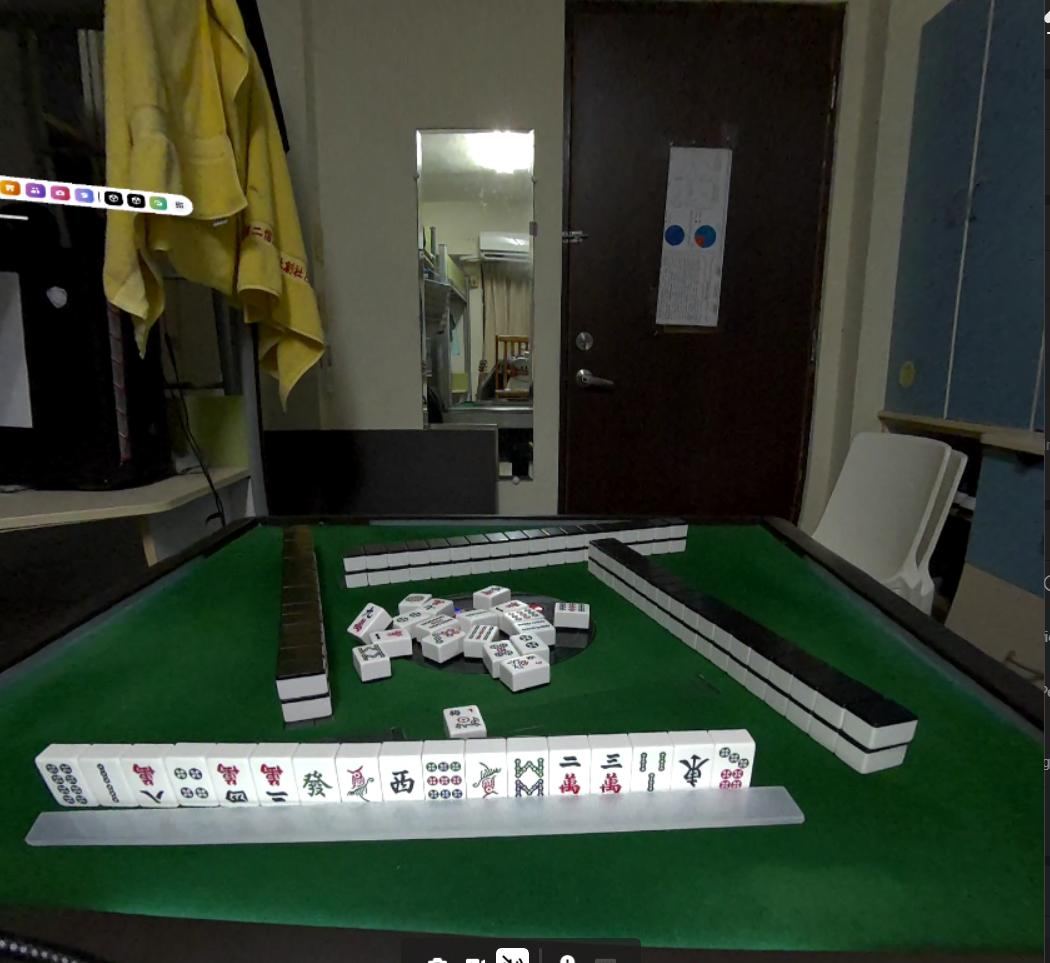mahjong: (547, 750, 593, 807), (625, 747, 676, 798), (42, 759, 89, 812), (85, 755, 130, 810), (382, 754, 424, 810), (422, 757, 469, 806), (338, 754, 382, 806), (248, 760, 293, 810), (465, 757, 506, 811), (212, 757, 252, 811), (125, 754, 166, 806), (165, 759, 209, 806), (592, 745, 632, 796), (675, 744, 714, 794), (715, 737, 753, 788), (302, 760, 344, 806), (508, 754, 549, 800)
